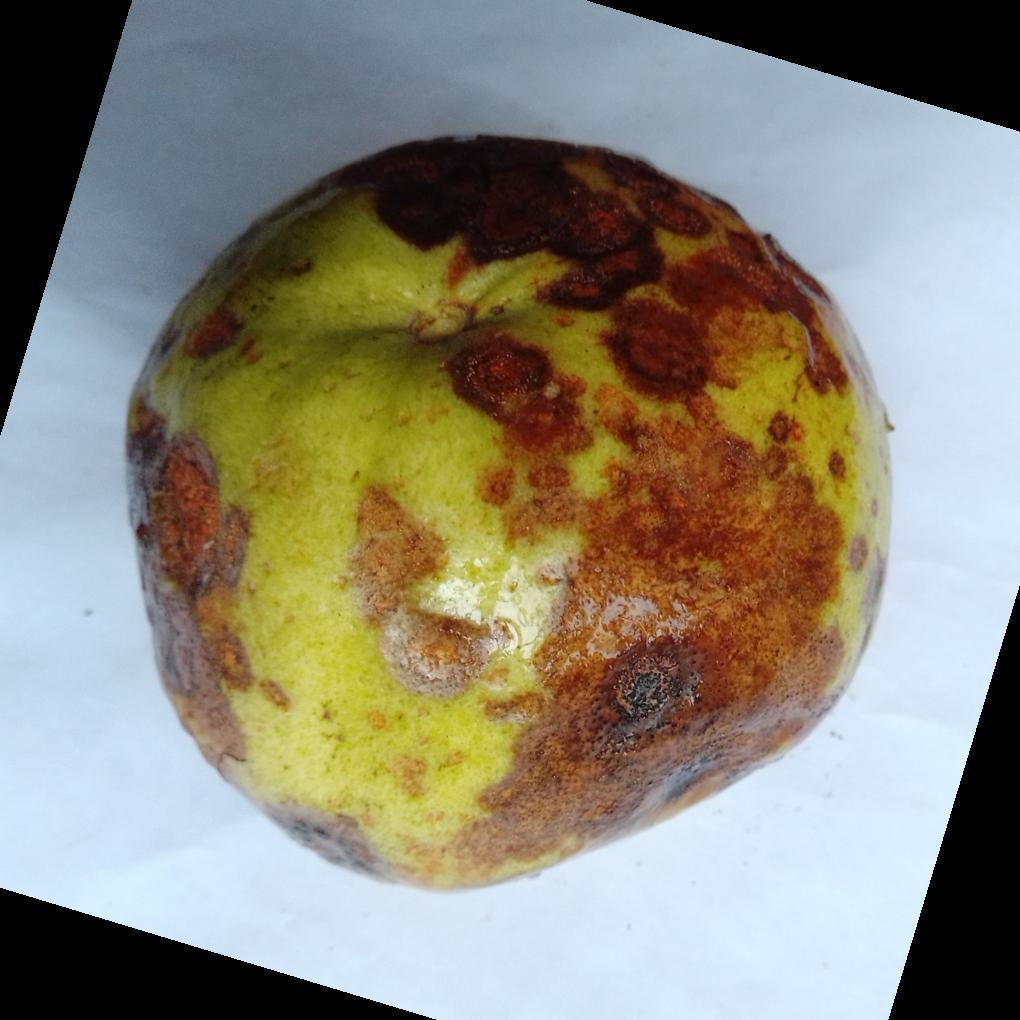FreshOrange: (122, 135, 894, 898)
